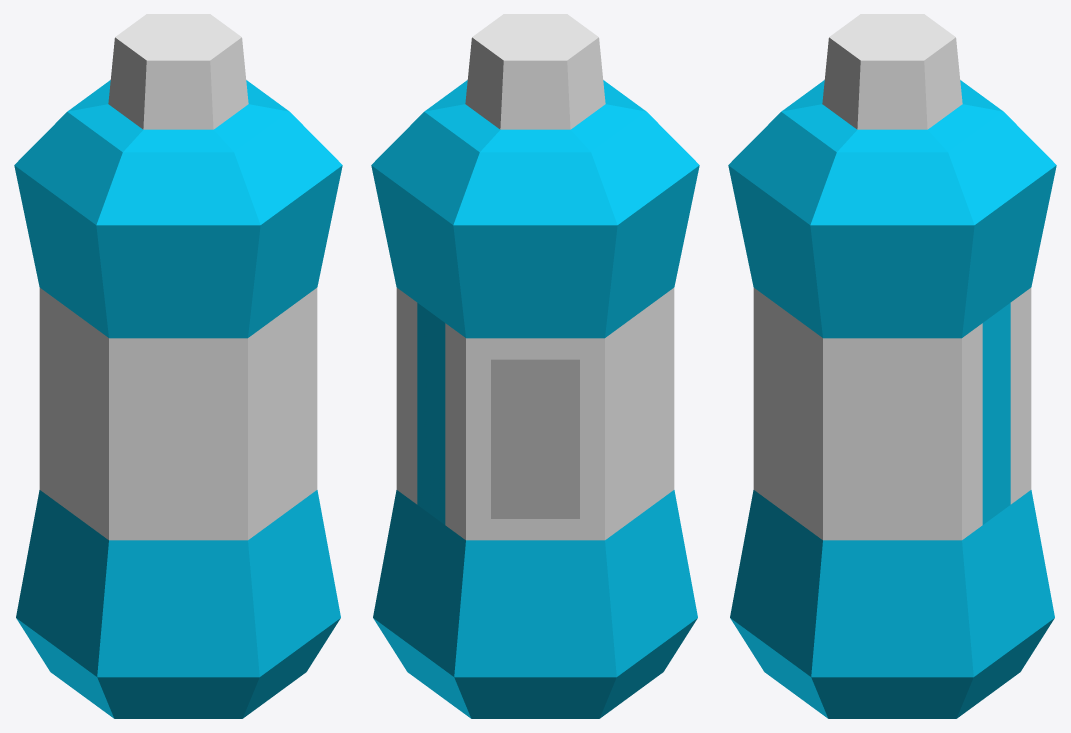
File: Drink_edited.fbx
3 renders of one model, left to right at view 1: azimuth 30°, elevation 25°; view 2: azimuth 150°, elevation 25°; view 3: azimuth 270°, elevation 25°, orthographic.
Parts seen in each view (by area): view 1: SM_Item_Drink_03_1; view 2: SM_Item_Drink_03_1; view 3: SM_Item_Drink_03_1.
Boxes of the visible parts, x1,y1,x2,y2 form: SM_Item_Drink_03_1: (14,14,342,718); SM_Item_Drink_03_1: (371,14,699,718); SM_Item_Drink_03_1: (728,14,1056,718).
Bounding box in the file's own units: 10.52 × 25.89 × 12.14.
